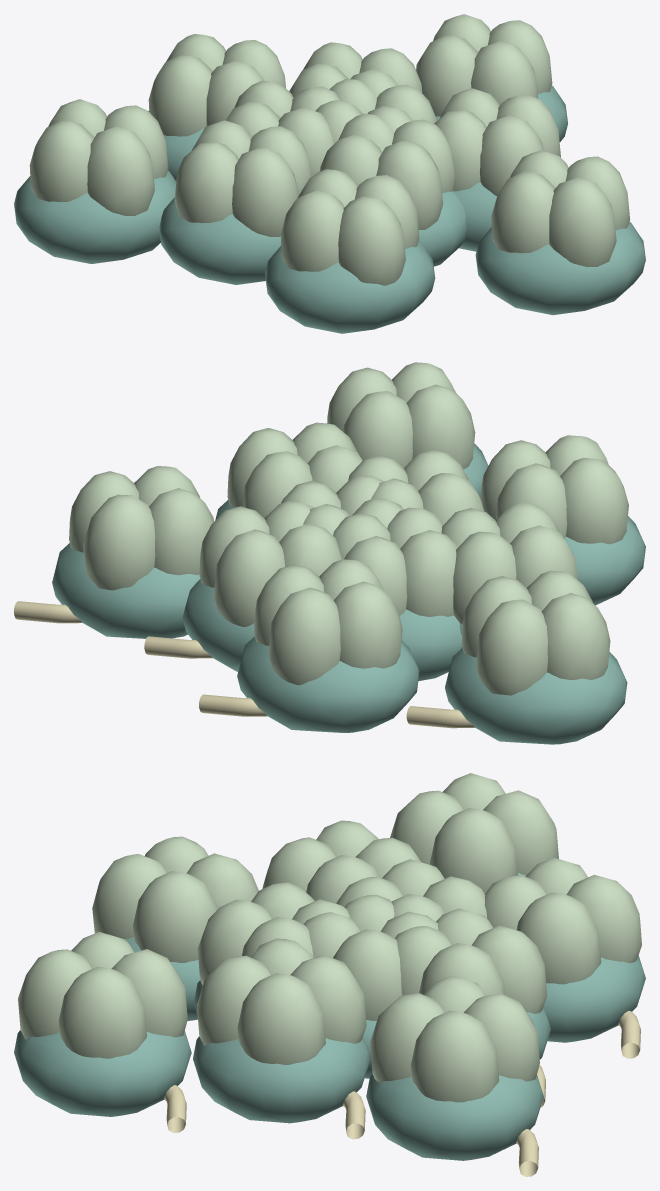
The model's file is bio_oxygen_reef_06_far.glb.
3 views of the same model, one above another, from view 1: azimuth 30°, elevation 25°; view 2: azimuth 150°, elevation 25°; view 3: azimuth 270°, elevation 25° (orthographic). The views are drawn at different scales.
Parts seen in each view (by area): view 1: Lobed gas sac.028, Lobed gas sac.040, Lobed gas sac.036, Lobed gas sac.016, Lobed gas sac.032, Photosynthetic cushion.007, Photosynthetic cushion.010, Lobed gas sac.024, Lobed gas sac.020, Photosynthetic cushion.009, Lobed gas sac.008, Photosynthetic cushion.004 (+7 smaller); view 2: Lobed gas sac.024, Lobed gas sac.036, Lobed gas sac.032, Lobed gas sac.040, Lobed gas sac.028, Lobed gas sac.012, Photosynthetic cushion.009, Photosynthetic cushion.006, Lobed gas sac.004, Lobed gas sac.016, Lobed gas sac.020, Photosynthetic cushion.008 (+10 smaller); view 3: Lobed gas sac.040, Lobed gas sac.032, Lobed gas sac.020, Lobed gas sac.028, Lobed gas sac.024, Lobed gas sac.036, Photosynthetic cushion.008, Photosynthetic cushion.010, Photosynthetic cushion.005, Lobed gas sac.012, Lobed gas sac, Lobed gas sac.016 (+8 smaller).
Boxes of the visible parts, x1,y1,x2,y2 form: Lobed gas sac.028: (280, 169, 419, 285); Lobed gas sac.040: (491, 150, 630, 266); Lobed gas sac.036: (29, 99, 168, 215); Lobed gas sac.016: (174, 120, 311, 236); Lobed gas sac.032: (416, 14, 552, 116); Photosynthetic cushion.007: (265, 240, 435, 333); Photosynthetic cushion.010: (475, 222, 645, 315); Lobed gas sac.024: (148, 34, 285, 136); Lobed gas sac.020: (434, 88, 560, 196); Photosynthetic cushion.009: (14, 170, 176, 263); Lobed gas sac.008: (320, 113, 454, 229); Photosynthetic cushion.004: (159, 197, 281, 284); Lobed gas sac.024: (254, 559, 402, 685); Lobed gas sac.036: (461, 570, 610, 695); Lobed gas sac.032: (69, 466, 214, 590); Lobed gas sac.040: (327, 362, 475, 469); Lobed gas sac.028: (480, 435, 628, 544); Lobed gas sac.012: (199, 501, 341, 626); Photosynthetic cushion.009: (445, 648, 627, 744); Photosynthetic cushion.006: (237, 636, 419, 732); Lobed gas sac.004: (333, 507, 457, 616); Lobed gas sac.016: (441, 502, 577, 624); Lobed gas sac.020: (227, 422, 362, 517); Photosynthetic cushion.008: (52, 543, 200, 638); Lobed gas sac.040: (18, 932, 187, 1058); Lobed gas sac.032: (370, 975, 539, 1102); Lobed gas sac.020: (197, 938, 366, 1064); Lobed gas sac.028: (92, 836, 258, 962); Lobed gas sac.024: (484, 857, 641, 984); Lobed gas sac.036: (390, 773, 558, 893); Photosynthetic cushion.008: (366, 1074, 543, 1160); Photosynthetic cushion.010: (14, 1030, 191, 1116); Photosynthetic cushion.005: (193, 1036, 370, 1123); Lobed gas sac.012: (395, 908, 547, 1013); Lobed gas sac: (304, 894, 438, 1020); Lobed gas sac.016: (262, 820, 421, 903).
Size of the model in its own units: 1.85 by 0.4497 by 1.71.
